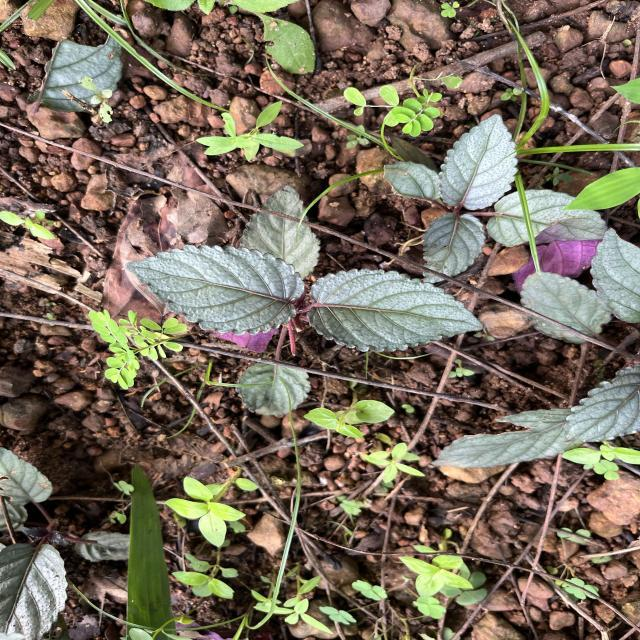Hemigraphis colorata: (123, 241, 309, 340), (303, 266, 487, 354), (435, 113, 520, 212), (486, 188, 610, 248), (587, 226, 640, 326), (418, 211, 488, 286)
